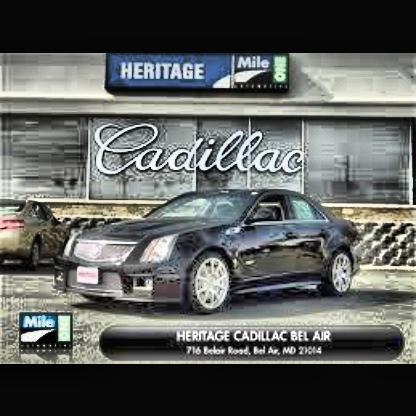Cadillac CTS-V Sedan 2012: (56, 191, 365, 319)
